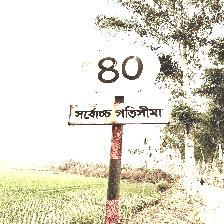Speed-limit: (69, 37, 172, 127)
